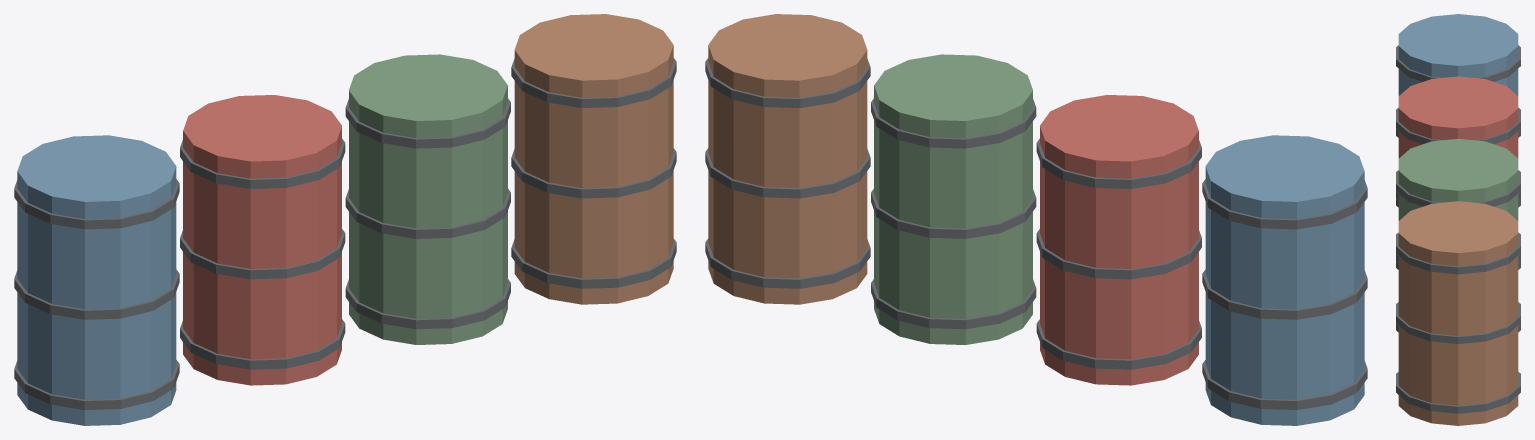
The model's file is drum_cluster_03.glb.
3 renders of one model, left to right at view 1: azimuth 30°, elevation 25°; view 2: azimuth 150°, elevation 25°; view 3: azimuth 270°, elevation 25°, orthographic. The views are drawn at different scales.
Parts seen in each view (by area): view 1: drum3, drum0, drum1, drum2, ring0_0.31, ring0_0.06, ring0_0.56, ring3_0.06, ring2_0.06, ring1_0.06, ring2_0.31, ring2_0.56 (+4 smaller); view 2: drum3, drum0, drum1, drum2, ring0_0.31, ring0_0.06, ring0_0.56, ring3_0.06, ring2_0.06, ring1_0.06, ring2_0.31, ring2_0.56 (+4 smaller); view 3: drum3, drum1, drum0, drum2, ring3_0.31, ring3_0.06, ring3_0.56, ring2_0.56, ring0_0.56, ring1_0.56.
Boxes of the visible parts, bbox=[...] form: drum3: bbox=[514, 14, 673, 304]; drum0: bbox=[17, 135, 176, 425]; drum1: bbox=[183, 95, 341, 385]; drum2: bbox=[349, 54, 507, 344]; ring0_0.31: bbox=[14, 269, 179, 319]; ring0_0.06: bbox=[14, 360, 179, 409]; ring0_0.56: bbox=[14, 179, 179, 229]; ring3_0.06: bbox=[511, 238, 676, 288]; ring2_0.06: bbox=[345, 279, 510, 329]; ring1_0.06: bbox=[180, 319, 345, 369]; ring2_0.31: bbox=[345, 189, 510, 238]; ring2_0.56: bbox=[345, 98, 510, 148]; drum3: bbox=[708, 14, 867, 304]; drum0: bbox=[1205, 135, 1364, 425]; drum1: bbox=[1040, 95, 1198, 385]; drum2: bbox=[874, 54, 1032, 344]; ring0_0.31: bbox=[1202, 269, 1367, 319]; ring0_0.06: bbox=[1202, 360, 1367, 409]; ring0_0.56: bbox=[1202, 179, 1367, 229]; ring3_0.06: bbox=[705, 238, 870, 288]; ring2_0.06: bbox=[871, 279, 1036, 329]; ring1_0.06: bbox=[1036, 319, 1201, 369]; ring2_0.31: bbox=[871, 189, 1036, 238]; ring2_0.56: bbox=[871, 98, 1036, 148]; drum3: bbox=[1398, 201, 1518, 425]; drum1: bbox=[1398, 76, 1518, 158]; drum0: bbox=[1398, 14, 1518, 95]; drum2: bbox=[1398, 138, 1518, 220]; ring3_0.31: bbox=[1396, 302, 1520, 343]; ring3_0.06: bbox=[1396, 372, 1520, 413]; ring3_0.56: bbox=[1396, 232, 1520, 274]; ring2_0.56: bbox=[1396, 170, 1520, 206]; ring0_0.56: bbox=[1396, 45, 1520, 81]; ring1_0.56: bbox=[1396, 107, 1520, 144].
Bounding box in the file's own units: 1.86 × 0.62 × 0.4056.
